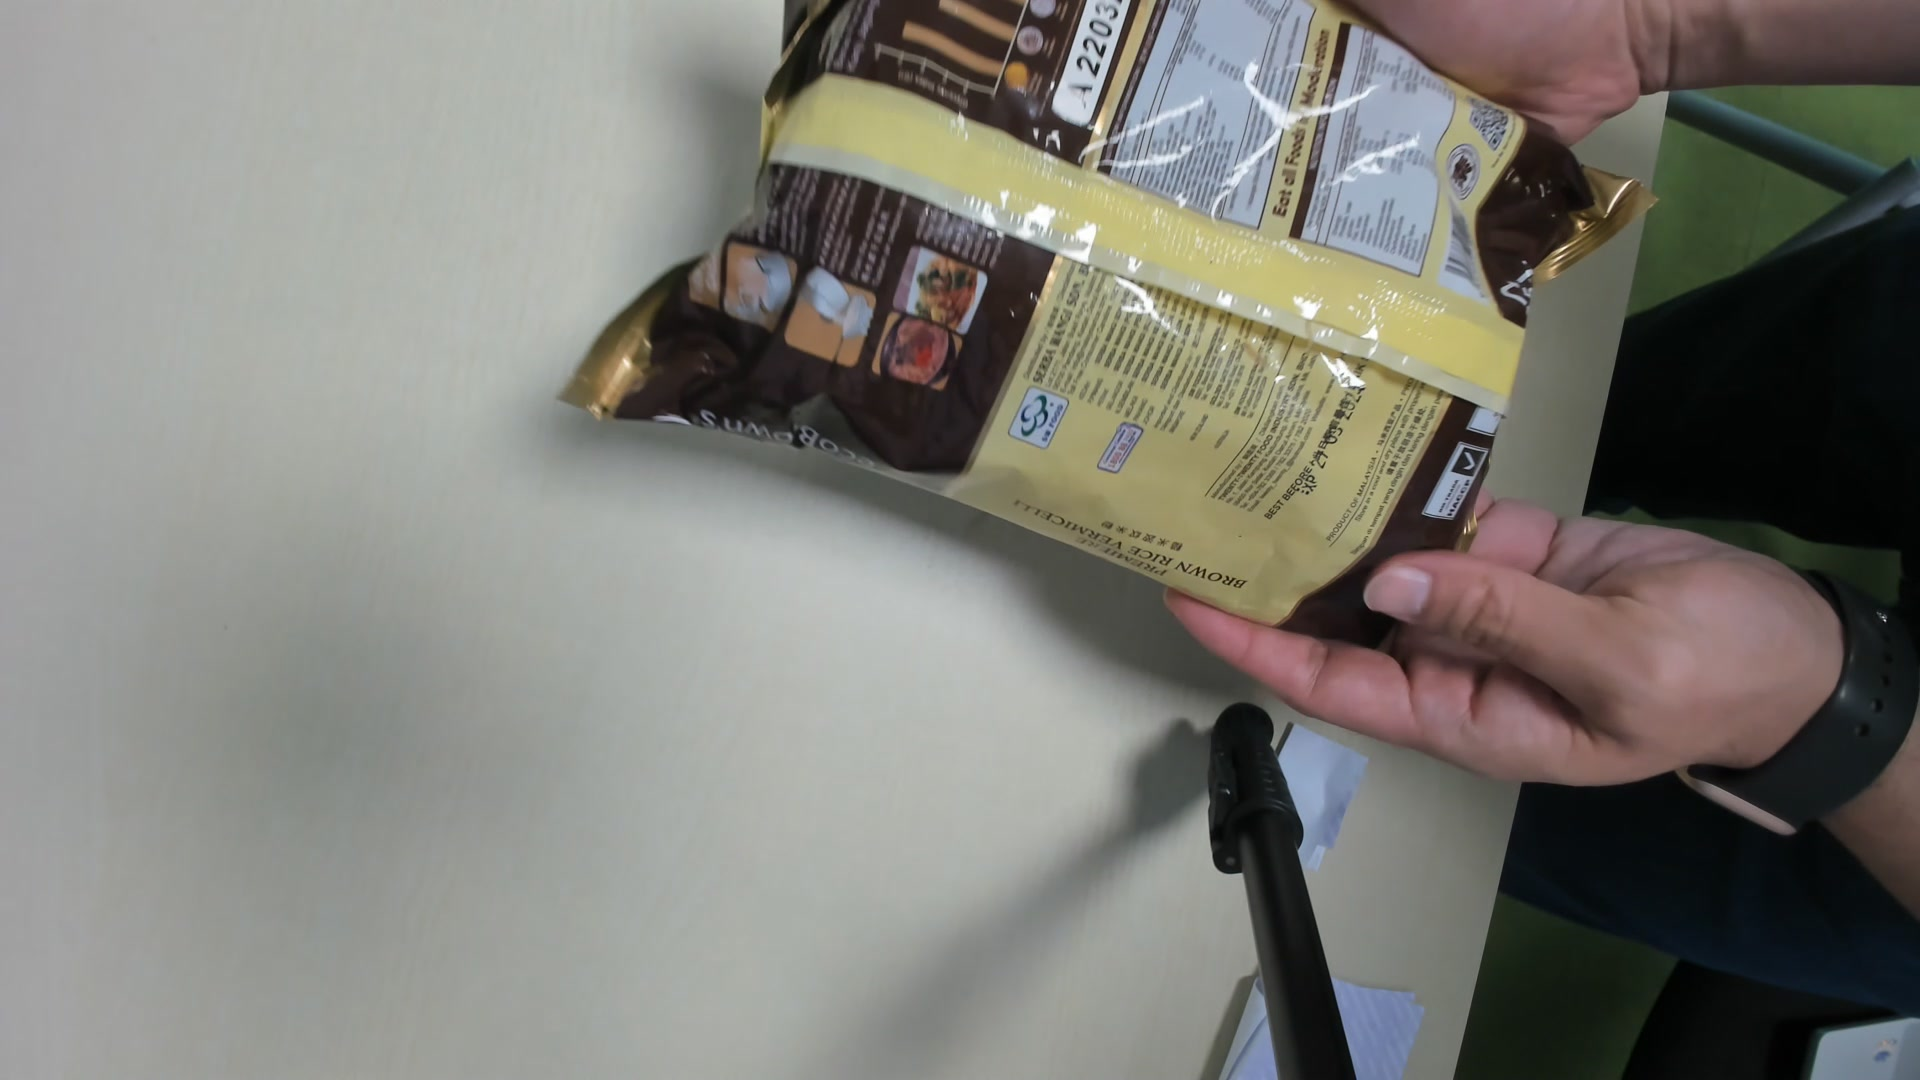BeeHoonVermicelli_300-399g_Halal_Healthy: (553, 11, 1640, 653)
